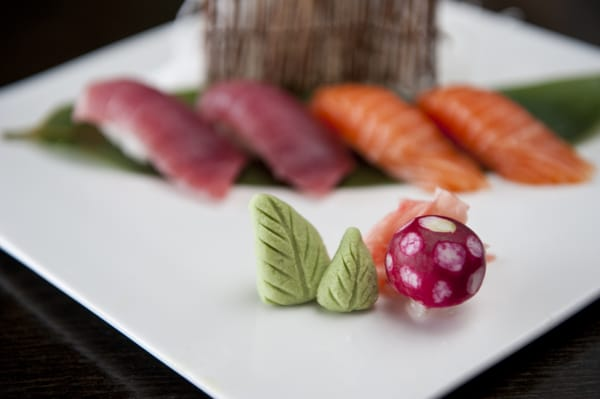curry: (0, 33, 600, 395)
pizza: (307, 81, 484, 194), (415, 82, 595, 186)
